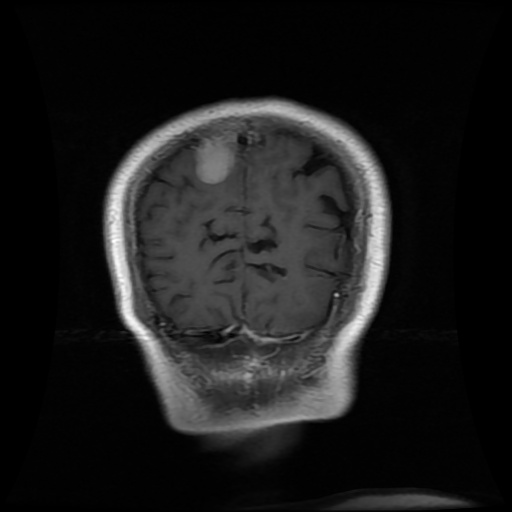meningioma: (195, 131, 236, 183)
